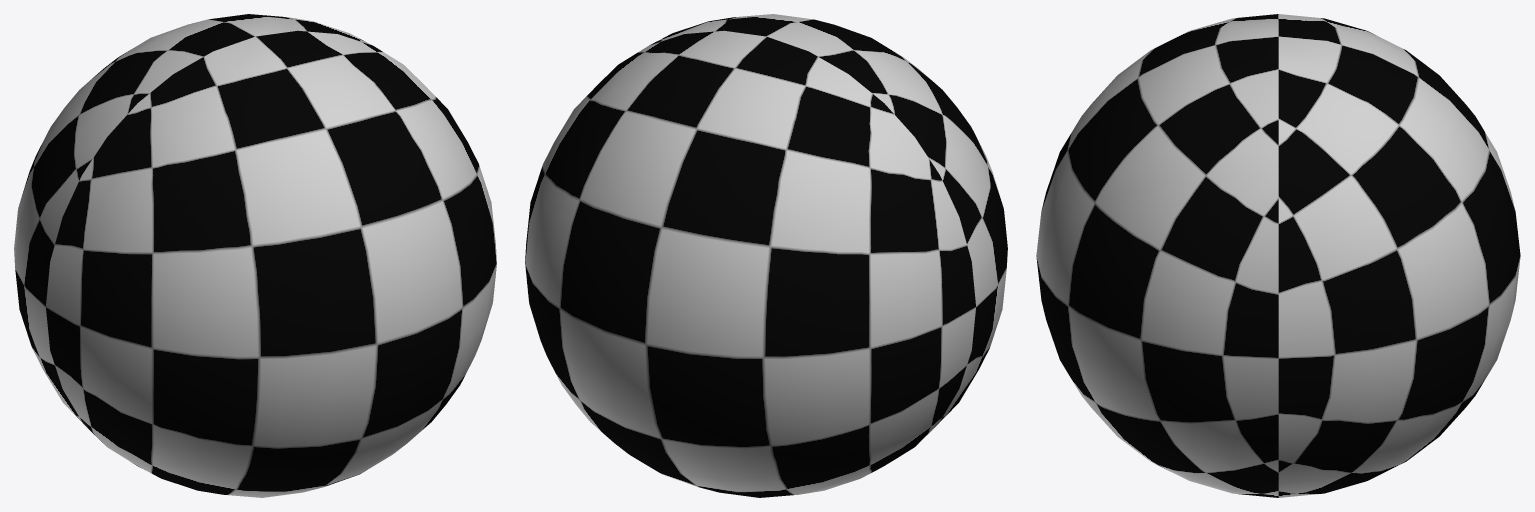
Rendered from asset-vru-venus.obj.
3 renders of one model, left to right at view 1: azimuth 30°, elevation 25°; view 2: azimuth 150°, elevation 25°; view 3: azimuth 270°, elevation 25°, orthographic.
Parts seen in each view (by area): view 1: asset_vru_venus; view 2: asset_vru_venus; view 3: asset_vru_venus.
Boxes of the visible parts, x1,y1,x2,y2 form: asset_vru_venus: (14,14,496,497); asset_vru_venus: (525,14,1007,497); asset_vru_venus: (1036,14,1520,497).
Bounding box in the file's own units: 2981 × 2981 × 2981.
1 material, 1 textured.
